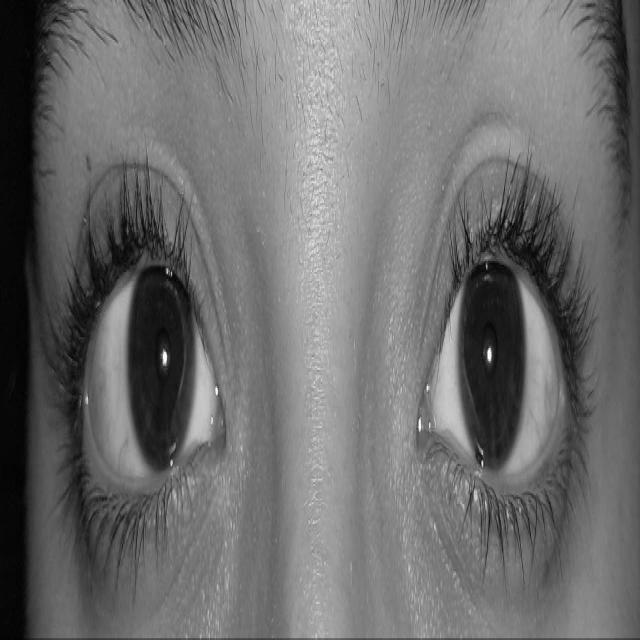real: (42, 86, 608, 614)
